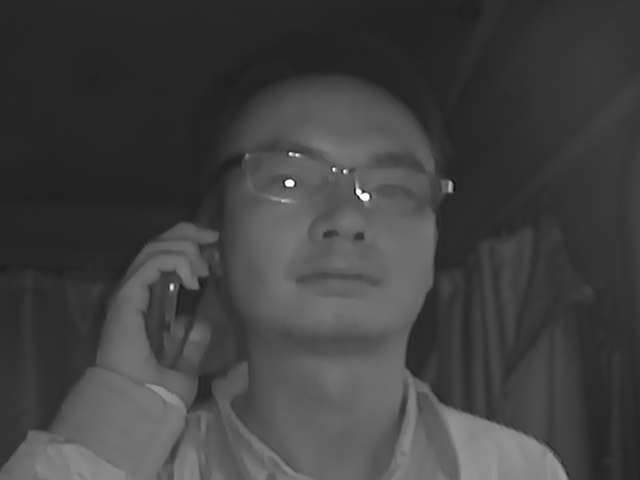hand: (95, 220, 219, 395)
